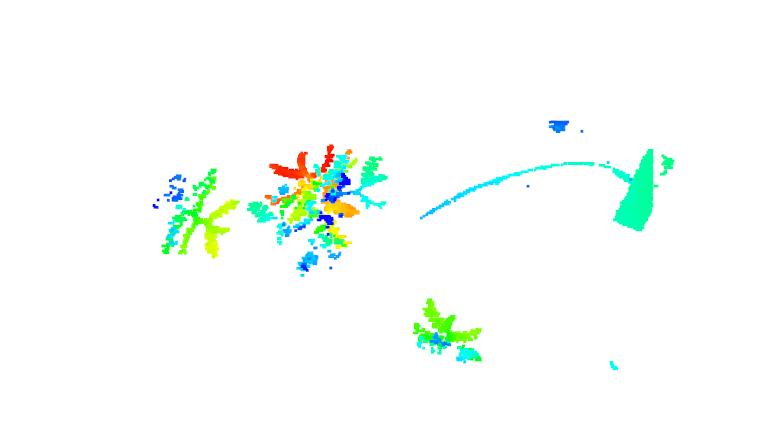chickpea: (242, 194, 354, 282), (148, 161, 242, 262), (267, 142, 386, 215), (411, 296, 491, 377)
